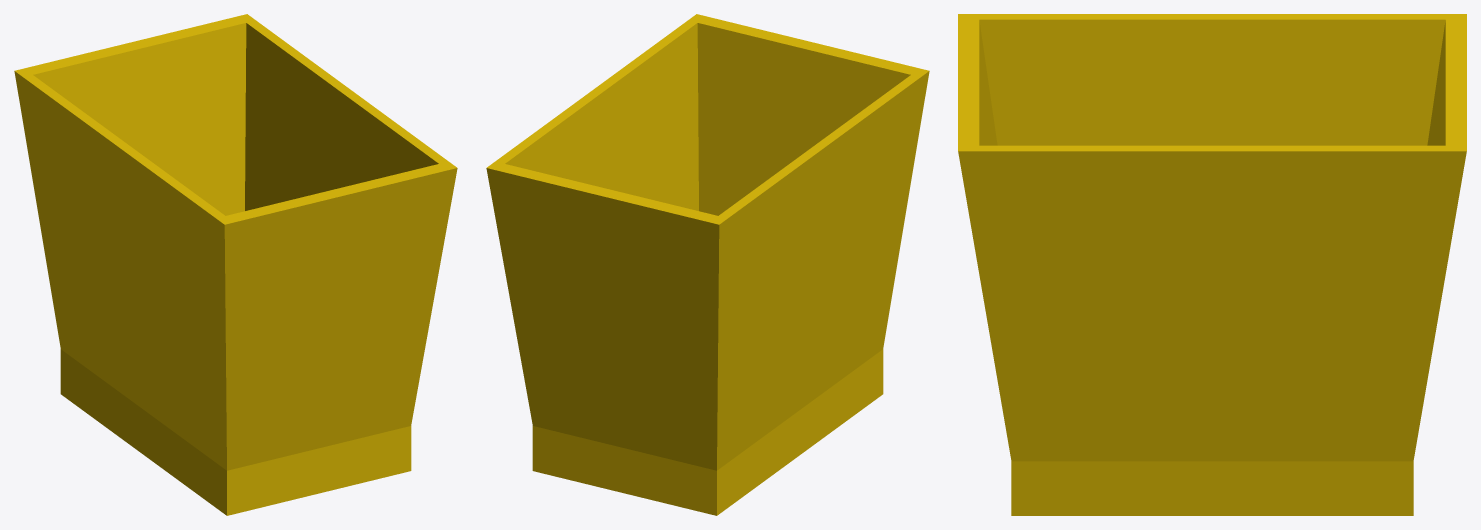
File: Receptical.fbx
3 renders of one model, left to right at view 1: azimuth 30°, elevation 25°; view 2: azimuth 150°, elevation 25°; view 3: azimuth 270°, elevation 25°, orthographic. The views are drawn at different scales.
Visible parts, largest first — view 1: Cube; view 2: Cube; view 3: Cube.
Part boxes in pixels (x1=…): Cube: x1=14, y1=14, x2=457, y2=515; Cube: x1=486, y1=14, x2=929, y2=515; Cube: x1=958, y1=14, x2=1466, y2=515.
Size of the model in its own units: 162 by 208 by 253.
